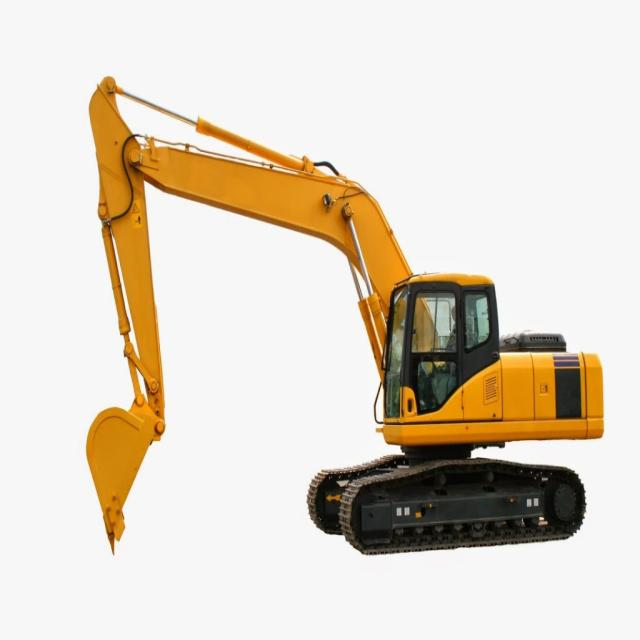excavator: (86, 77, 604, 556)
